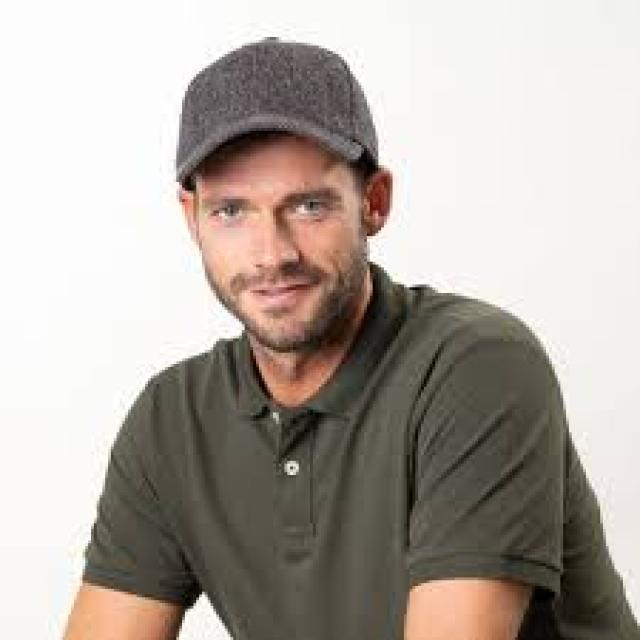cap: (144, 5, 410, 194)
